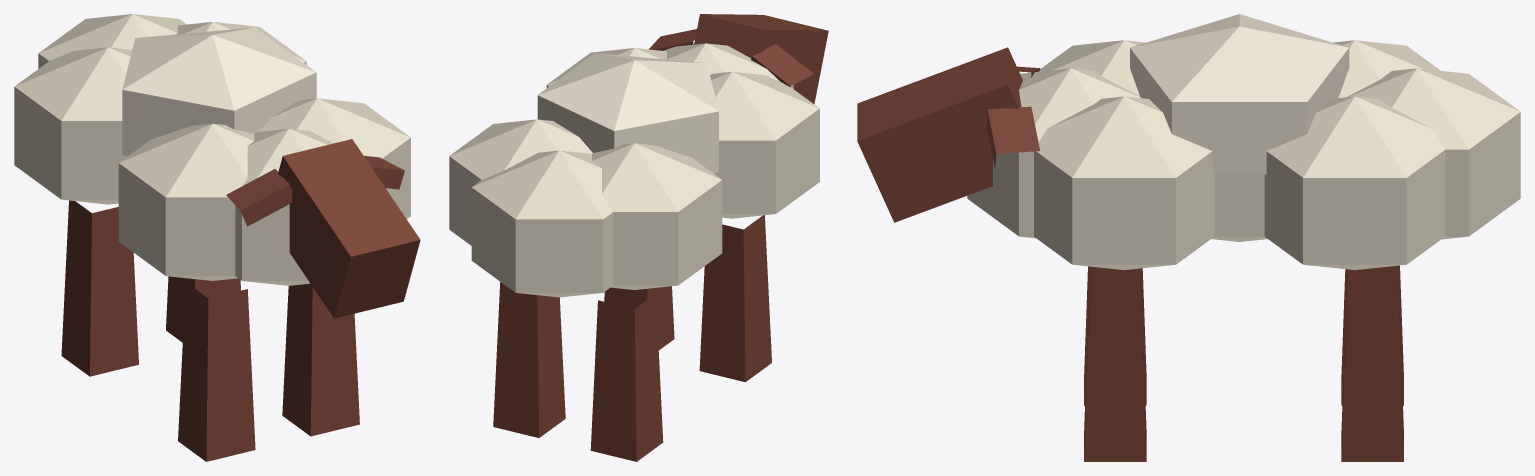
Rendered from sheep.glb.
3 views of the same model, side by side, from view 1: azimuth 30°, elevation 25°; view 2: azimuth 150°, elevation 25°; view 3: azimuth 270°, elevation 25° (orthographic). The views are drawn at different scales.
Visible parts, largest first — view 1: Body, Head; view 2: Body, Head; view 3: Body, Head.
Part boxes in pixels (x1=…): Body: x1=14, y1=14, x2=410, y2=461; Head: x1=226, y1=139, x2=420, y2=318; Body: x1=449, y1=43, x2=819, y2=461; Head: x1=649, y1=14, x2=828, y2=103; Body: x1=967, y1=14, x2=1520, y2=461; Head: x1=857, y1=47, x2=1040, y2=222.
Bounding box in the file's own units: 0.705 × 0.98 × 1.5.
Materials: 1 (1 with a texture image).
